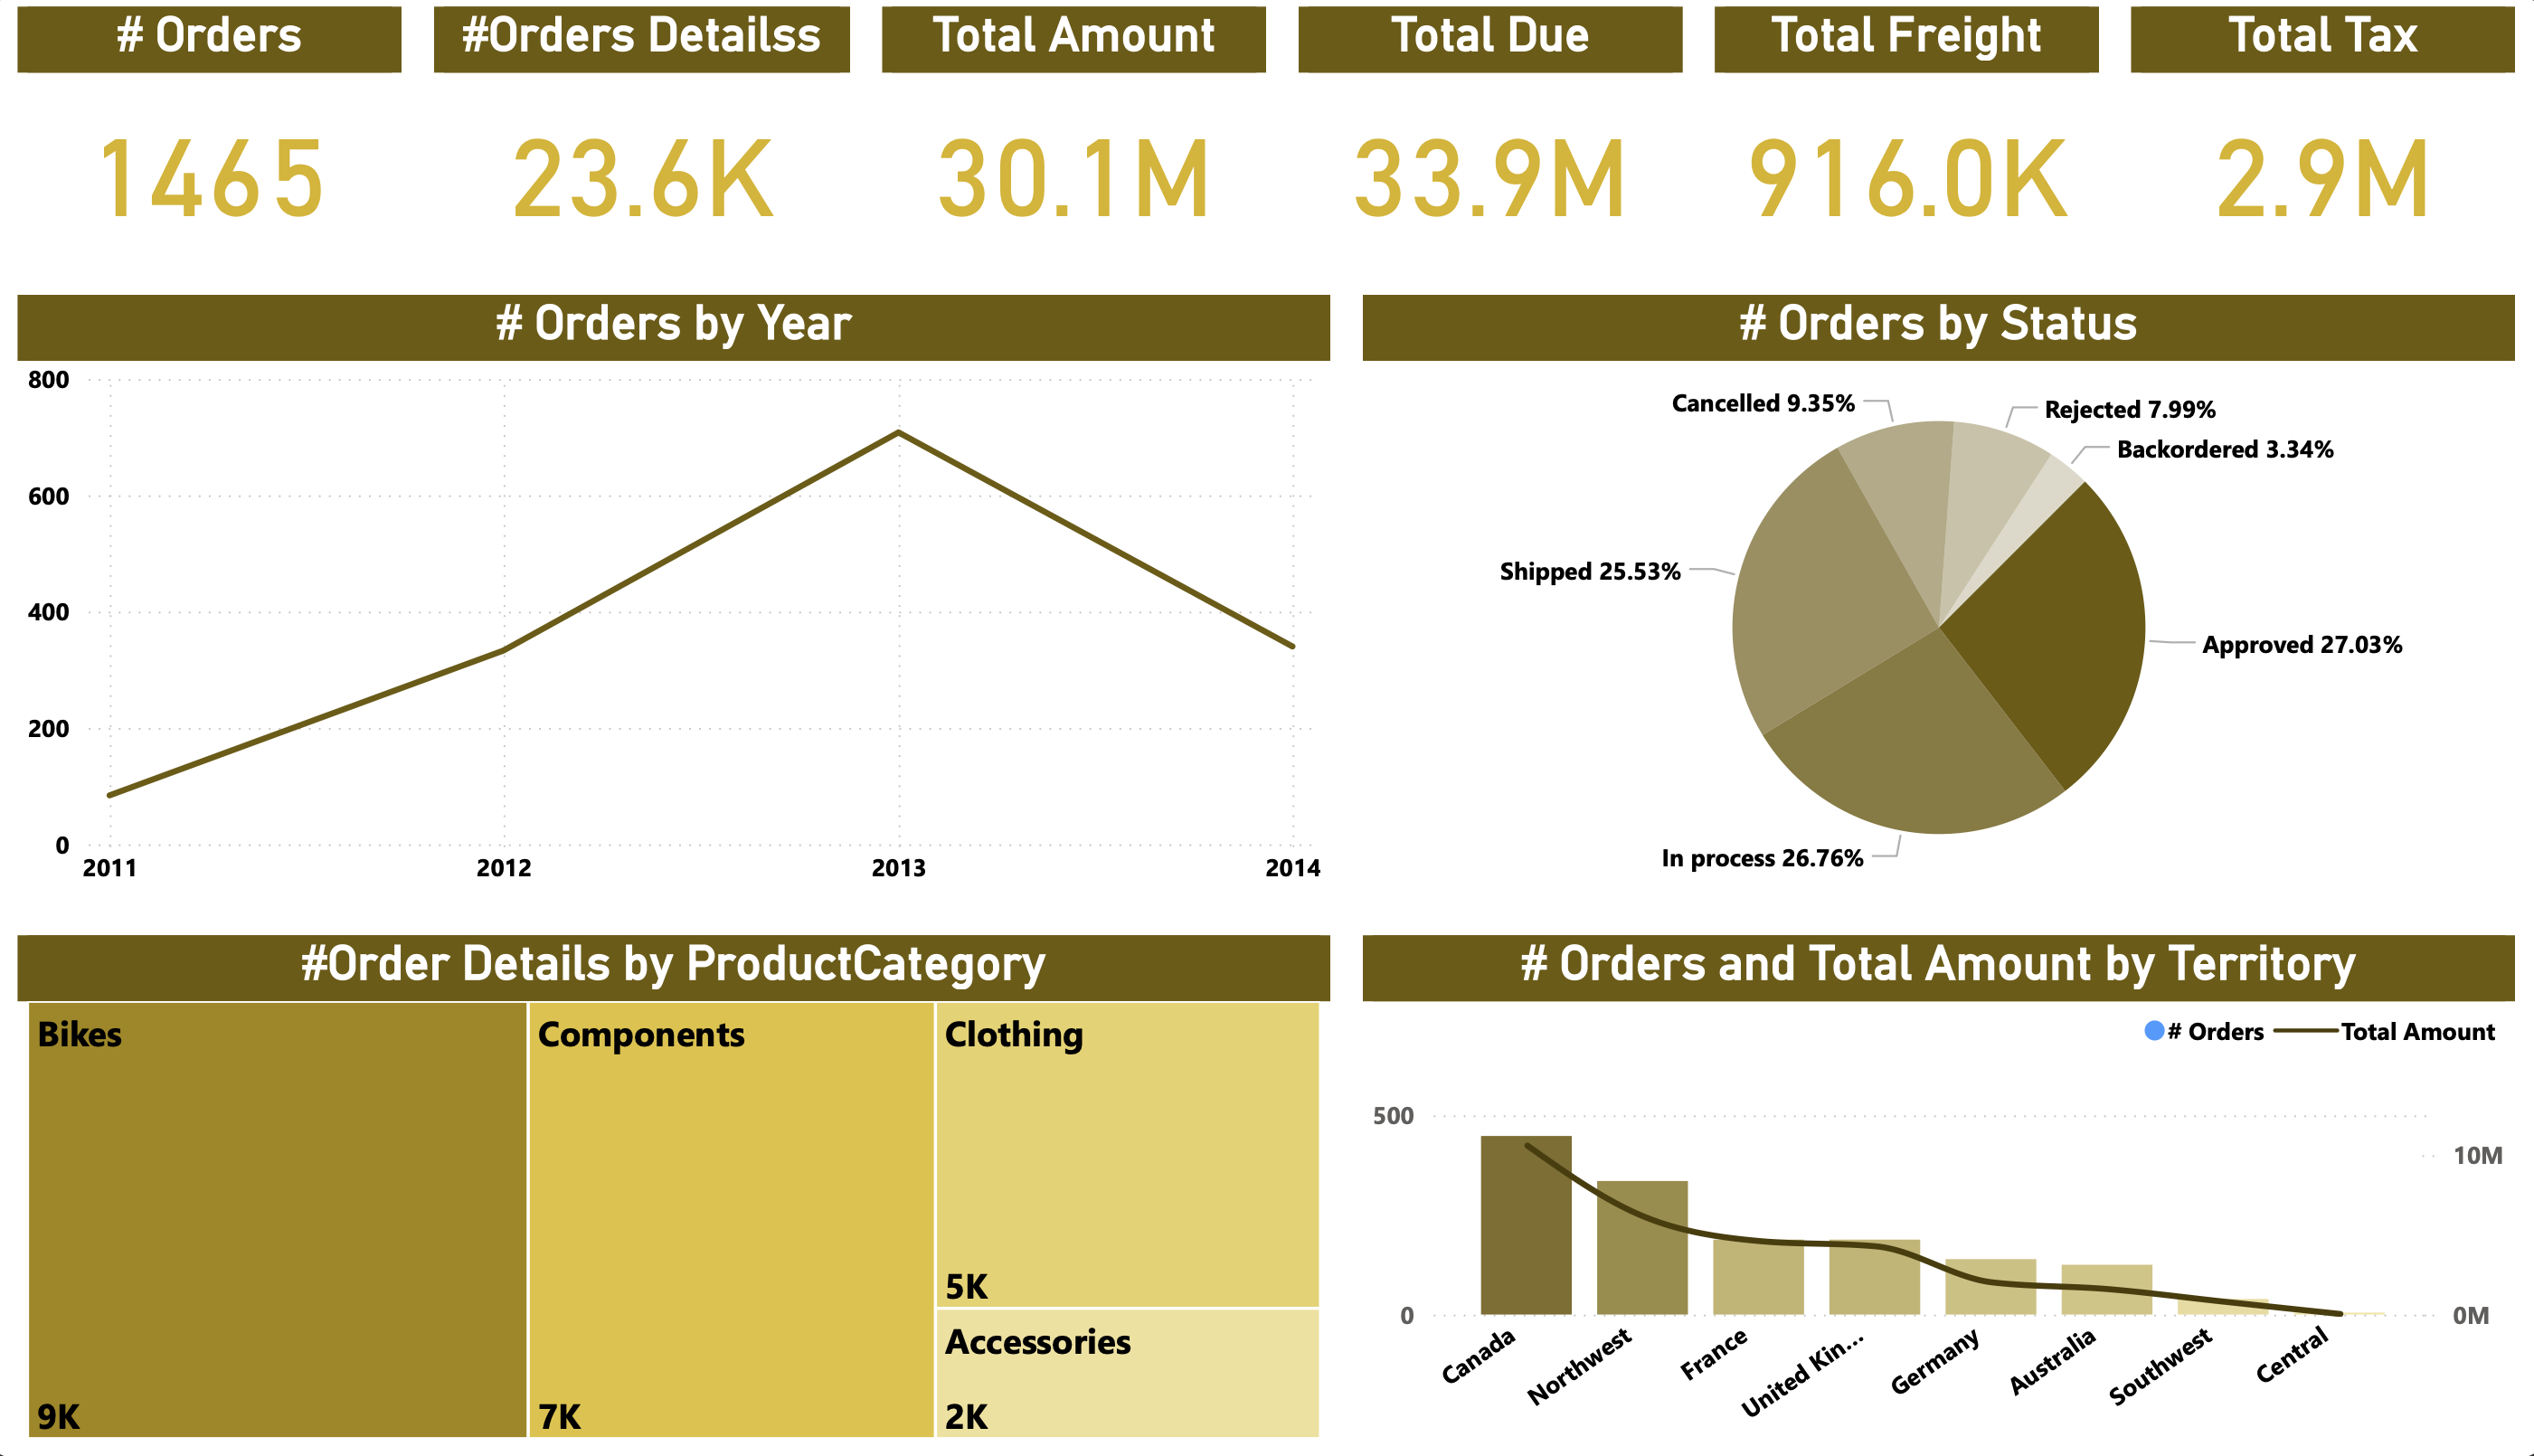

This screenshot's page, from the dashboard's own definition file:
{"tool":"powerbi","page":{"name":"Dashboard ","canvas":[1280,720],"ordinal":0},"visuals":[{"type":"card","title":"# Orders","fields":{"Values":["Sales.# Orders"]},"box":[16,0,192,128],"z":0},{"type":"card","title":"#Orders Detailss","fields":{"Values":["Sales.#Order Details"]},"box":[224,0,208,128],"z":1000},{"type":"card","title":"Total Amount","fields":{"Values":["Sales.Total Amount"]},"box":[448,0,192,128],"z":2000},{"type":"card","title":"Total Due","fields":{"Values":["Sales.Total Due"]},"box":[656,0,192,128],"z":3000},{"type":"card","title":"Total Freight","fields":{"Values":["Sales.Total Freight"]},"box":[864,0,192,128],"z":4000},{"type":"card","title":"Total Tax","fields":{"Values":["Sales.Total Tax"]},"box":[1072,0,192,128],"z":5000},{"type":"lineChart","fields":{"Y":["Sales.# Orders"],"Category":["Sales.OrderDate.Variation.Date Hierarchy.Year","Sales.OrderDate.Variation.Date Hierarchy.Quarter","Sales.OrderDate.Variation.Date Hierarchy.Month","Sales.OrderDate.Variation.Date Hierarchy.Day"]},"box":[16,144,656,304],"z":6000},{"type":"treemap","fields":{"Group":["Sales.ProductCategory","Sales.ProductSubCategory","Sales.Product"],"Values":["Sales.#Order Details"]},"box":[16,464,656,256],"z":7000},{"type":"pieChart","fields":{"Category":["Sales.Status"],"Y":["Sales.# Orders"]},"box":[688,144,576,304],"z":8000},{"type":"lineStackedColumnComboChart","fields":{"Category":["Sales.Territory"],"Y":["Sales.# Orders"],"Y2":["Sales.Total Amount"]},"box":[688,464,576,256],"z":9000}]}

Visuals, with their boxes in screenshot pixels (x1, y1, x2, y2), scaled from the page's 1280x720 canvas onto the 2534x1456 screenshot:
"# Orders" card: [left=32, top=0, right=411, bottom=259]
"#Orders Detailss" card: [left=443, top=0, right=856, bottom=259]
"Total Amount" card: [left=887, top=0, right=1267, bottom=259]
"Total Due" card: [left=1299, top=0, right=1678, bottom=259]
"Total Freight" card: [left=1710, top=0, right=2091, bottom=259]
"Total Tax" card: [left=2123, top=0, right=2502, bottom=259]
lineChart - Sales.# Orders x Sales.OrderDate.Variation.Date Hierarchy.Year: [left=32, top=291, right=1330, bottom=906]
treemap - Sales.ProductCategory x Sales.ProductSubCategory: [left=32, top=939, right=1330, bottom=1455]
pieChart - Sales.Status x Sales.# Orders: [left=1362, top=291, right=2502, bottom=906]
lineStackedColumnComboChart - Sales.Territory x Sales.# Orders: [left=1362, top=939, right=2502, bottom=1455]
